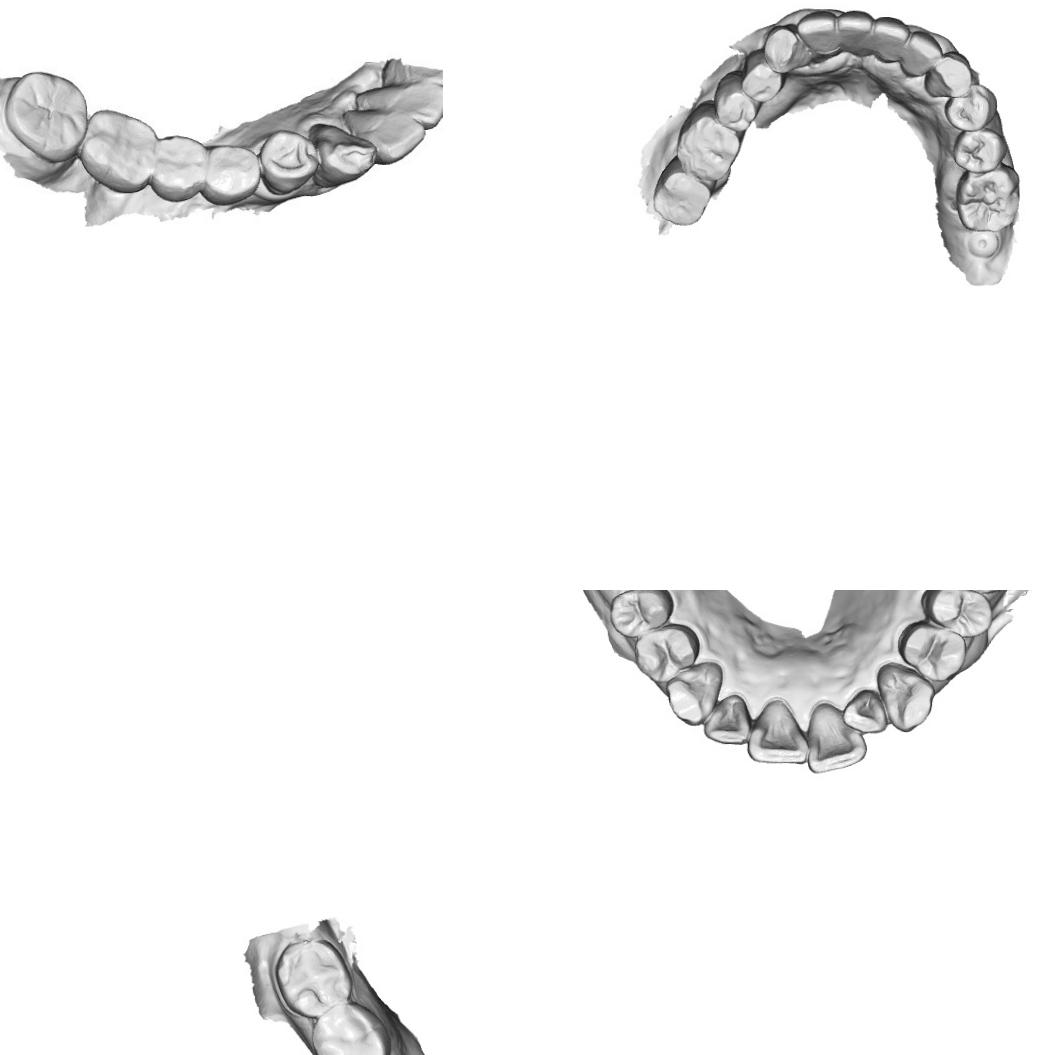canine: (309, 120, 374, 192), (875, 661, 936, 733), (664, 660, 724, 728), (922, 49, 974, 99), (761, 24, 811, 74)
implant: (964, 229, 1001, 259)
incisor: (805, 700, 868, 775), (346, 104, 422, 162), (746, 698, 810, 766), (363, 80, 443, 131), (702, 692, 752, 746), (898, 28, 944, 80), (840, 686, 888, 735), (796, 10, 841, 59), (871, 14, 911, 64), (837, 9, 875, 58)
molar: (8, 68, 86, 160), (273, 937, 354, 1018), (81, 106, 158, 190), (676, 99, 744, 188), (954, 163, 1022, 232), (650, 154, 712, 227), (310, 1002, 393, 1055)
premolar: (896, 618, 968, 684), (257, 128, 321, 198), (632, 621, 702, 685), (149, 130, 210, 201), (201, 140, 261, 198), (919, 590, 993, 637), (607, 590, 675, 638), (712, 67, 759, 130), (942, 82, 999, 132), (950, 126, 1008, 175), (740, 45, 785, 103)
